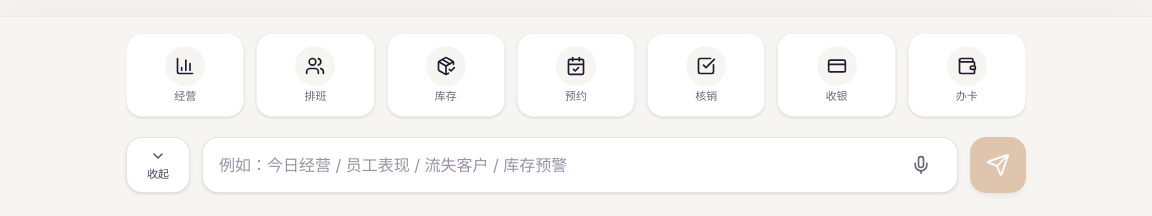
SmartCommandBar › collapses and expands quick actions without affecting text input
The image size is (1152, 216).
What coordinates should you click on to do the following:
click the button with aria-label "收起快捷操作"
I would click on:
 (158, 165)
Its box is [126,137,190,193].
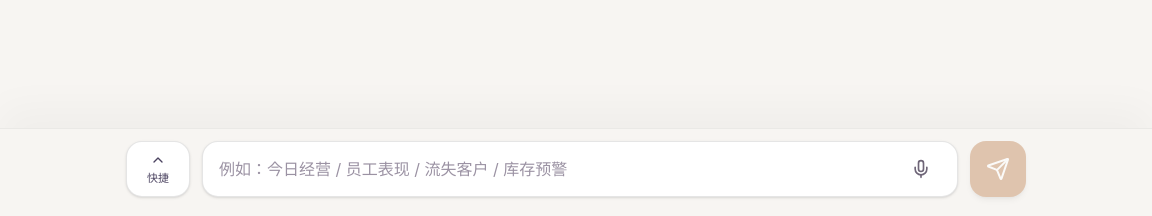
Expected: the text "快捷" is shown, [147,170,169,186]
Expected: the text "经营" is gone
Expected: the text "排班" is gone
What coordinates should you click on to do the following:
click the button named "收起快捷操作"
I would click on:
 (158, 169)
Its box is [126,141,190,197].
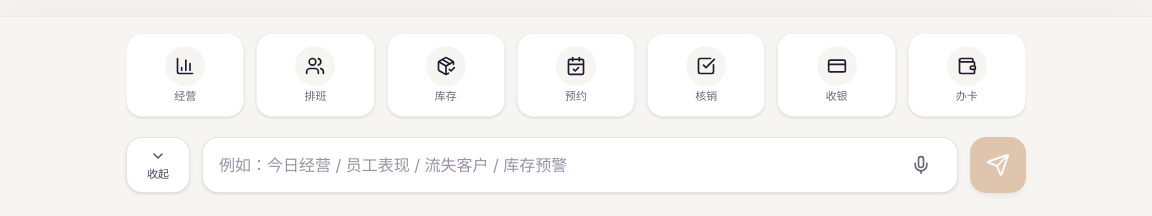
Expected: the text "经营" is shown, [174,90,196,104]
Expected: the text "排班" is shown, [304,90,326,104]
Expected: the text "库存" is shown, [435,90,457,104]
